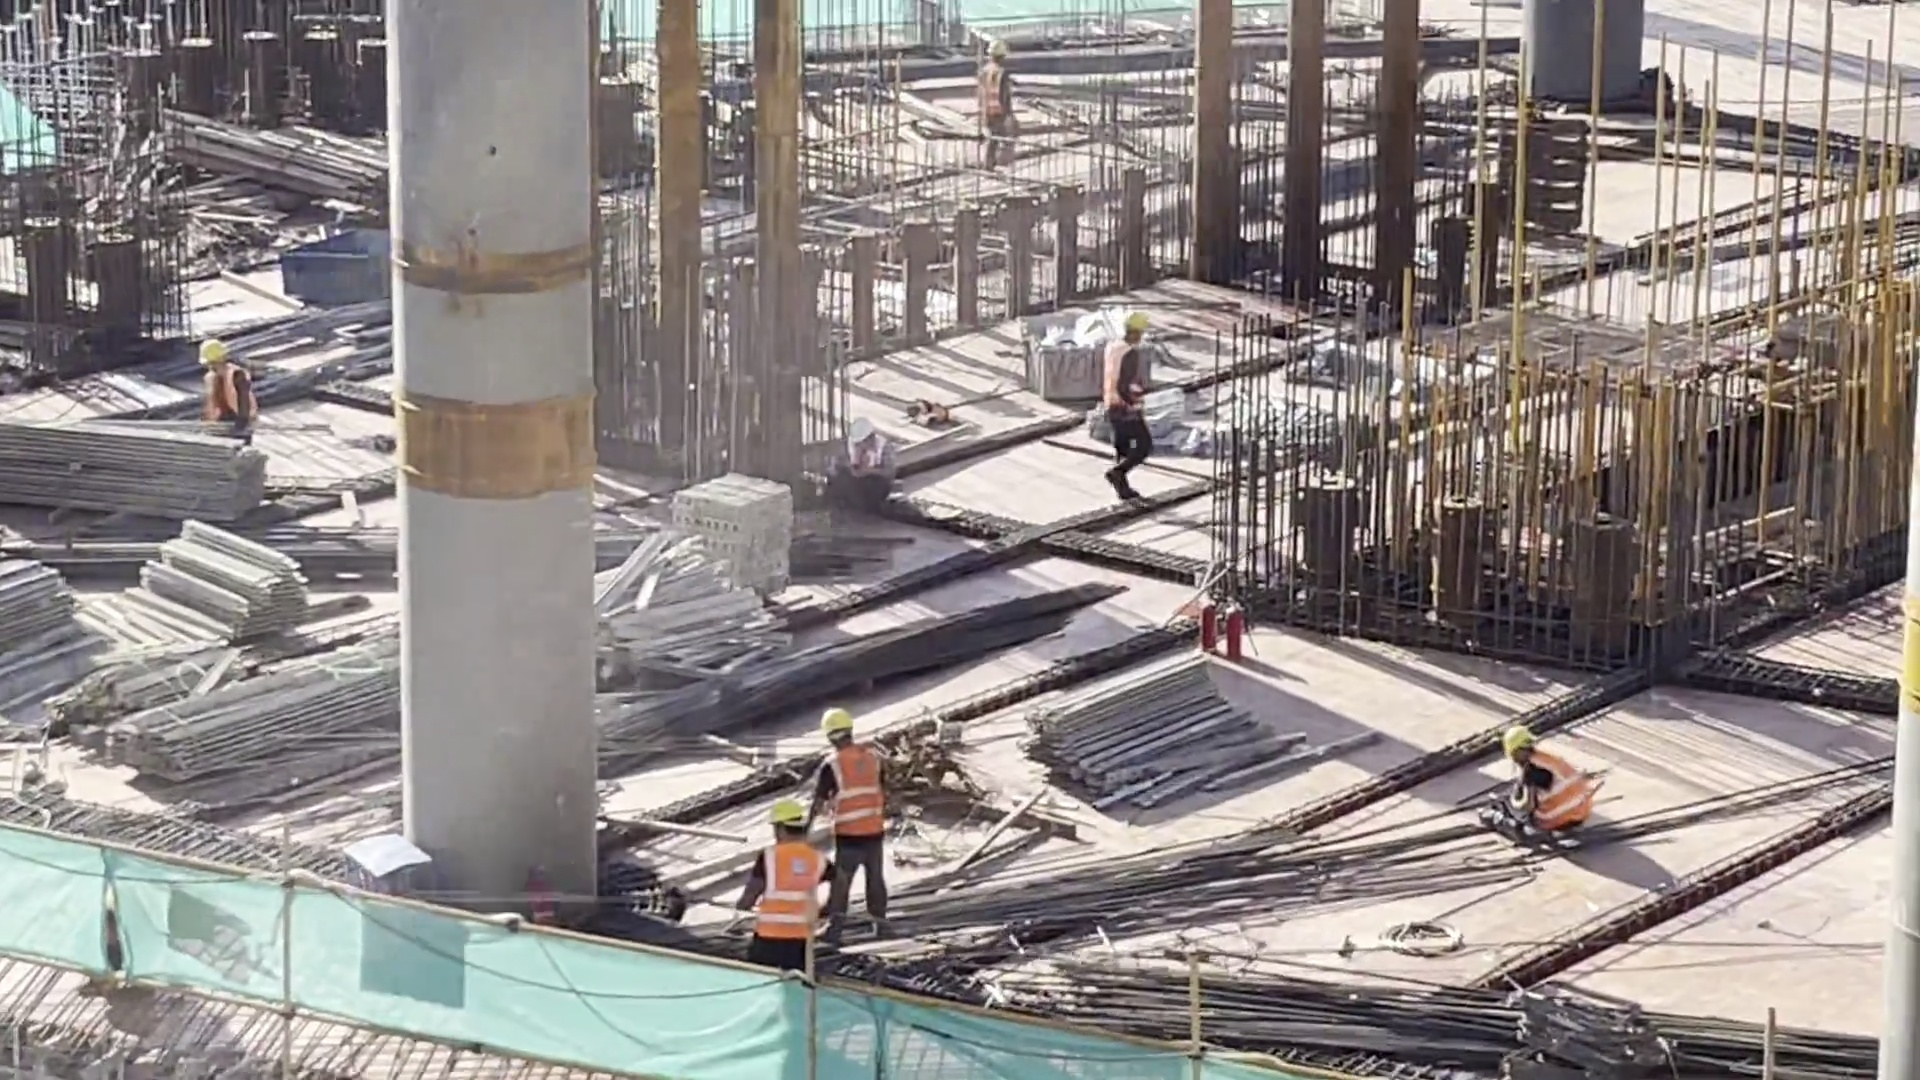helmet: (1497, 717, 1533, 760), (189, 327, 228, 365), (844, 415, 881, 450), (1118, 294, 1151, 332), (773, 801, 803, 835), (826, 706, 852, 734), (981, 37, 1011, 61)
person: (792, 711, 921, 950), (1469, 719, 1606, 868), (728, 785, 826, 956), (185, 305, 259, 467), (1099, 316, 1177, 465), (955, 22, 1029, 174), (821, 411, 911, 524)
vest: (821, 745, 895, 838), (754, 834, 818, 938), (1517, 753, 1589, 834), (1101, 339, 1148, 404), (196, 365, 247, 415), (978, 60, 1008, 115)
